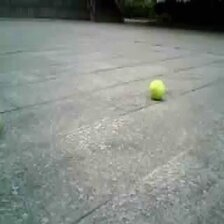tennis: (150, 78, 164, 96)
